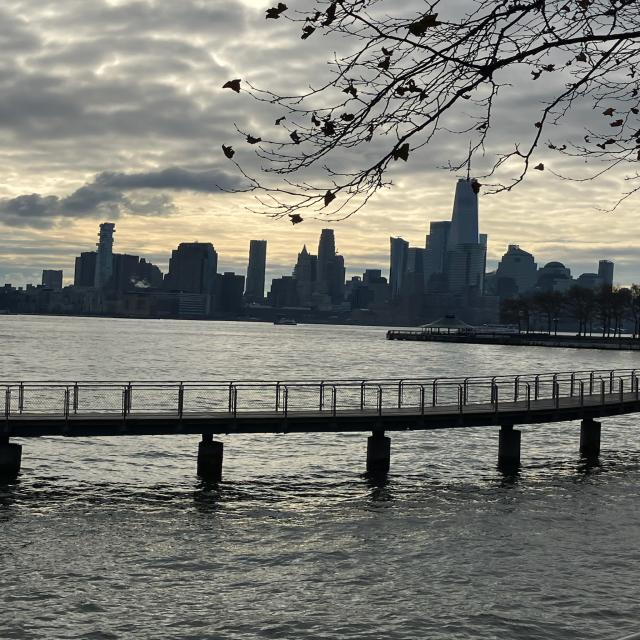WTC: (448, 140, 482, 241)
